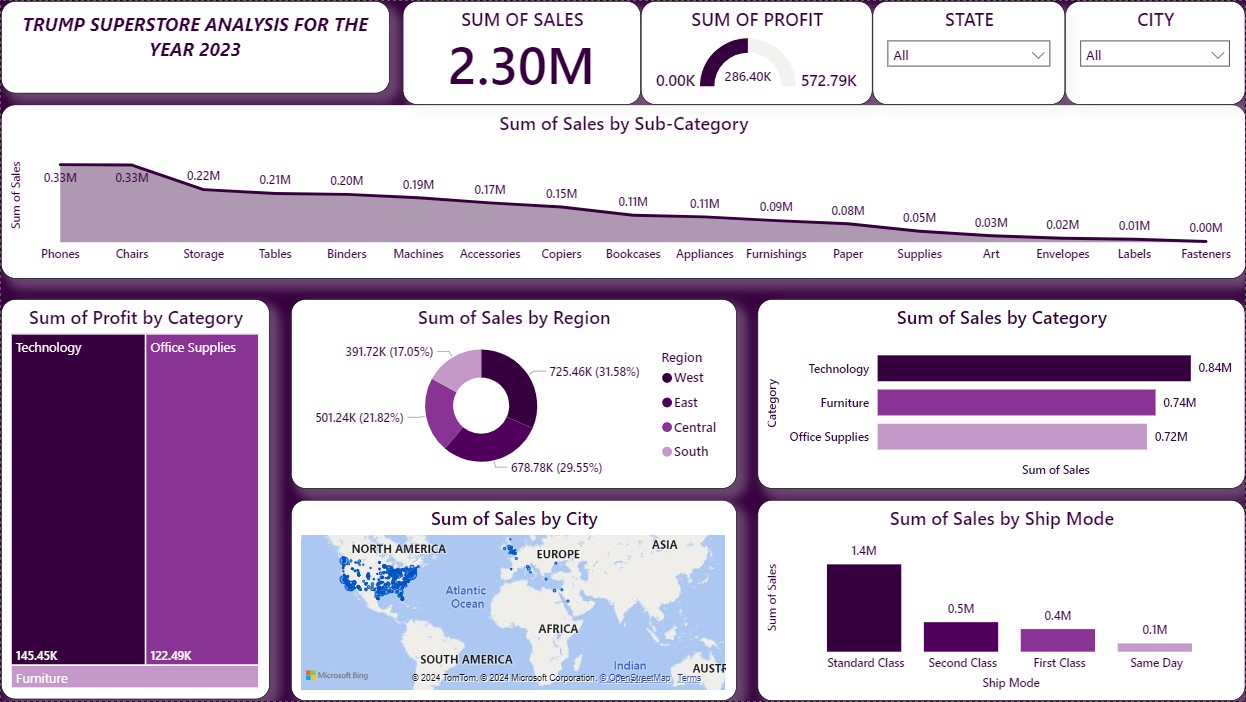

The page's visual inventory and layout, read from the dashboard file:
{"tool":"powerbi","page":{"name":"Page 1","canvas":[1280,720],"ordinal":0},"visuals":[{"type":"barChart","fields":{"Category":["SampleSuperstore.Category"],"Y":["Sum(SampleSuperstore.Sales)"]},"box":[778.3,306.7,501.7,195],"z":0},{"type":"map","fields":{"Category":["SampleSuperstore.City"],"Size":["Sum(SampleSuperstore.Sales)"]},"box":[298.3,513.3,458.3,206.7],"z":1000},{"type":"treemap","fields":{"Group":["SampleSuperstore.Category"],"Values":["Sum(SampleSuperstore.Profit)"]},"box":[0,306.7,276.7,411.7],"z":2000},{"type":"donutChart","fields":{"Category":["SampleSuperstore.Region"],"Y":["Sum(SampleSuperstore.Sales)"]},"box":[298.3,306.7,458.3,195],"z":3000},{"type":"lineChart","fields":{"Category":["SampleSuperstore.Sub-Category"],"Y":["Sum(SampleSuperstore.Sales)"]},"box":[0,107,1280.7,178.9],"z":4000},{"type":"columnChart","fields":{"Category":["SampleSuperstore.Ship Mode"],"Y":["Sum(SampleSuperstore.Sales)"]},"box":[778.3,513.3,501.7,206.7],"z":5000},{"type":"card","title":"SUM OF SALES","fields":{"Values":["Sum(SampleSuperstore.Sales)"]},"box":[413.3,0,245,106.7],"z":6000},{"type":"gauge","title":"SUM OF PROFIT","fields":{"Y":["Sum(SampleSuperstore.Profit)"]},"box":[658.3,0,238.3,106.7],"z":7000},{"type":"slicer","title":"CITY","fields":{"Values":["SampleSuperstore.City"]},"box":[1095,0,185,106.7],"z":8000},{"type":"slicer","title":"STATE","fields":{"Values":["SampleSuperstore.State"]},"box":[896.7,0,198.3,106.7],"z":9000},{"type":"textbox","box":[0,0,400,95],"z":10000}]}

Visuals, with their boxes in screenshot pixels (x1, y1, x2, y2), scaled from the page's 1280x720 canvas onto the 1246x702 screenshot:
barChart - SampleSuperstore.Category x Sum(SampleSuperstore.Sales): [x1=758, y1=299, x2=1245, y2=489]
map - SampleSuperstore.City x Sum(SampleSuperstore.Sales): [x1=290, y1=500, x2=737, y2=701]
treemap - SampleSuperstore.Category x Sum(SampleSuperstore.Profit): [x1=0, y1=299, x2=269, y2=700]
donutChart - SampleSuperstore.Region x Sum(SampleSuperstore.Sales): [x1=290, y1=299, x2=737, y2=489]
lineChart - SampleSuperstore.Sub-Category x Sum(SampleSuperstore.Sales): [x1=0, y1=104, x2=1245, y2=279]
columnChart - SampleSuperstore.Ship Mode x Sum(SampleSuperstore.Sales): [x1=758, y1=500, x2=1245, y2=701]
"SUM OF SALES" card: [x1=402, y1=0, x2=641, y2=104]
"SUM OF PROFIT" gauge: [x1=641, y1=0, x2=873, y2=104]
"CITY" slicer: [x1=1066, y1=0, x2=1245, y2=104]
"STATE" slicer: [x1=873, y1=0, x2=1066, y2=104]
textbox: [x1=0, y1=0, x2=389, y2=93]
